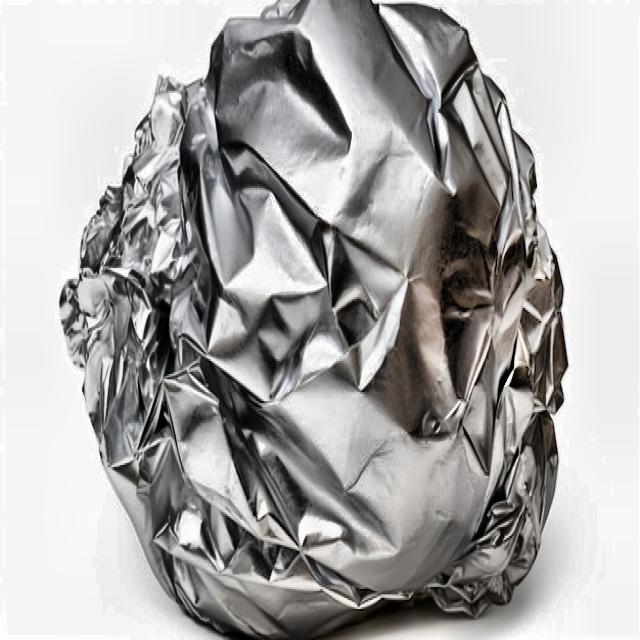Foil: (53, 0, 581, 640)
